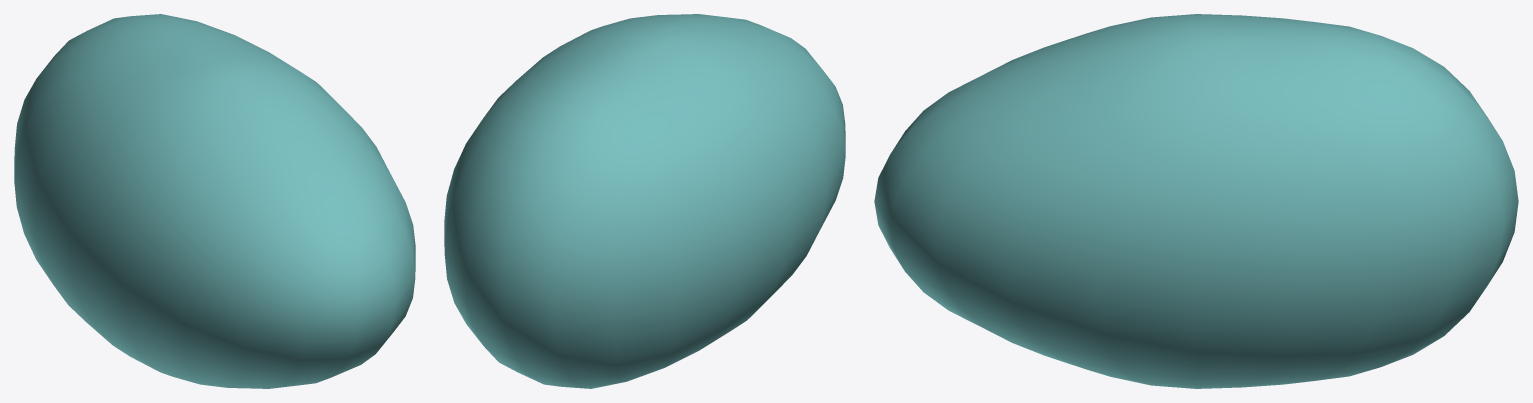
File: Dot_Line.gltf
3 renders of one model, left to right at view 1: azimuth 30°, elevation 25°; view 2: azimuth 150°, elevation 25°; view 3: azimuth 270°, elevation 25°, orthographic. The views are drawn at different scales.
Visible parts, largest first — view 1: Dot_Line_Egg_Shape_Grp; view 2: Dot_Line_Egg_Shape_Grp; view 3: Dot_Line_Egg_Shape_Grp.
Boxes of the visible parts, box(x1,y1,x2,y2) form: Dot_Line_Egg_Shape_Grp: box(14, 14, 415, 388); Dot_Line_Egg_Shape_Grp: box(444, 14, 845, 388); Dot_Line_Egg_Shape_Grp: box(874, 14, 1518, 388).
Size of the model in its own units: 2 by 2 by 3.43.
